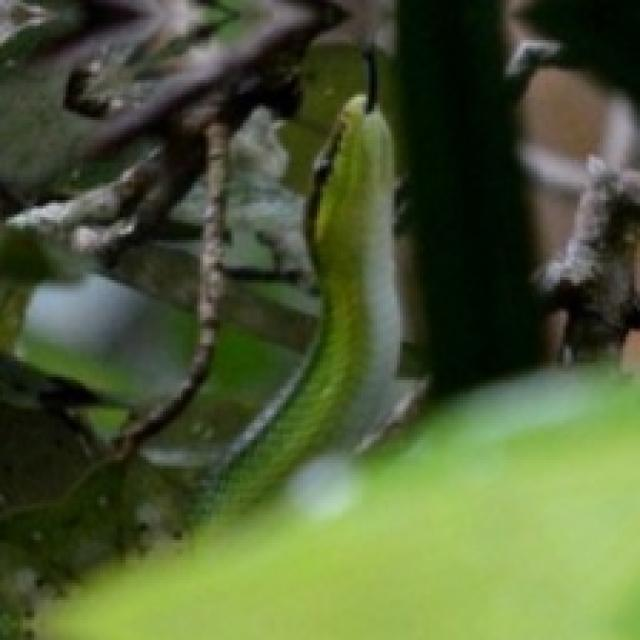red-tailed green ratsnake: (206, 94, 414, 520)
